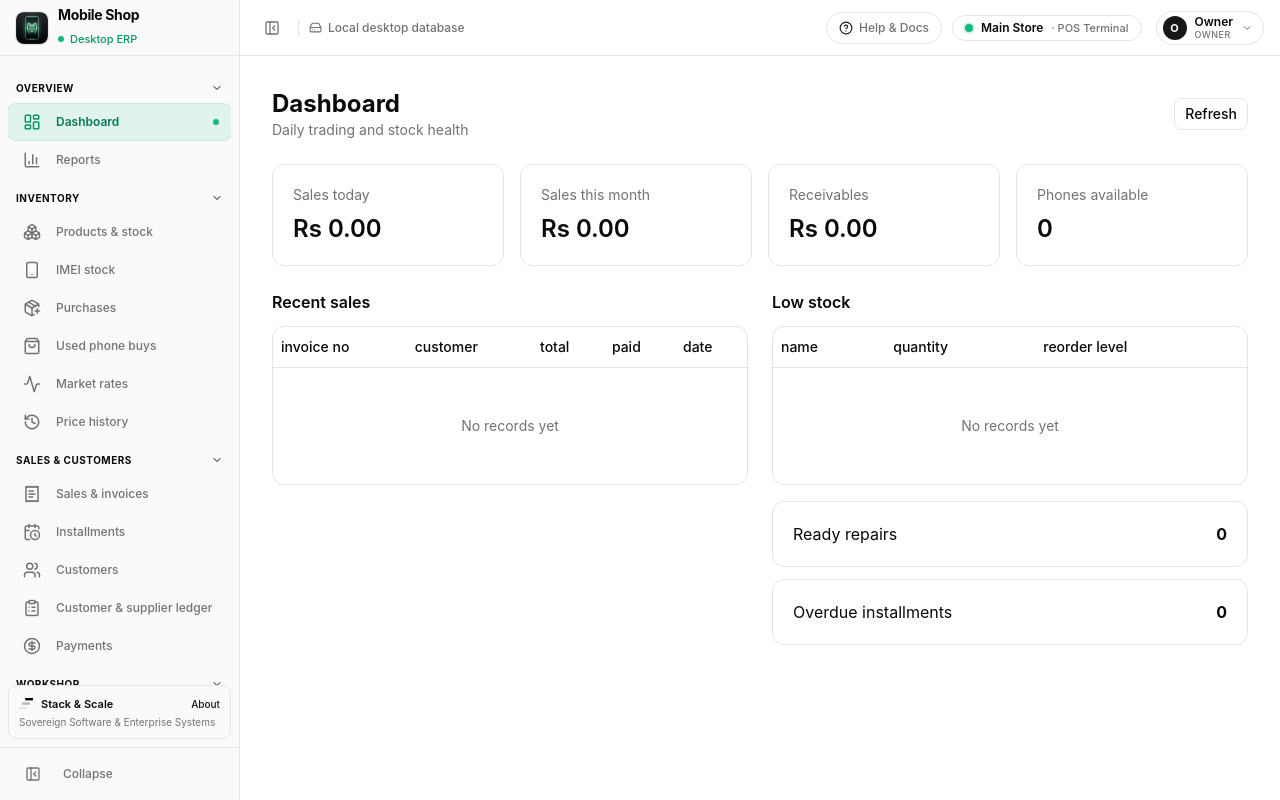
Test: desktop interface › filters reports by date and shows fast moving stock
Expected: the text "Sales today" is shown, [293, 186, 370, 203]
Step 1. Click the button "Reports" → {"x": 120, "y": 160}, box [8, 142, 231, 178]
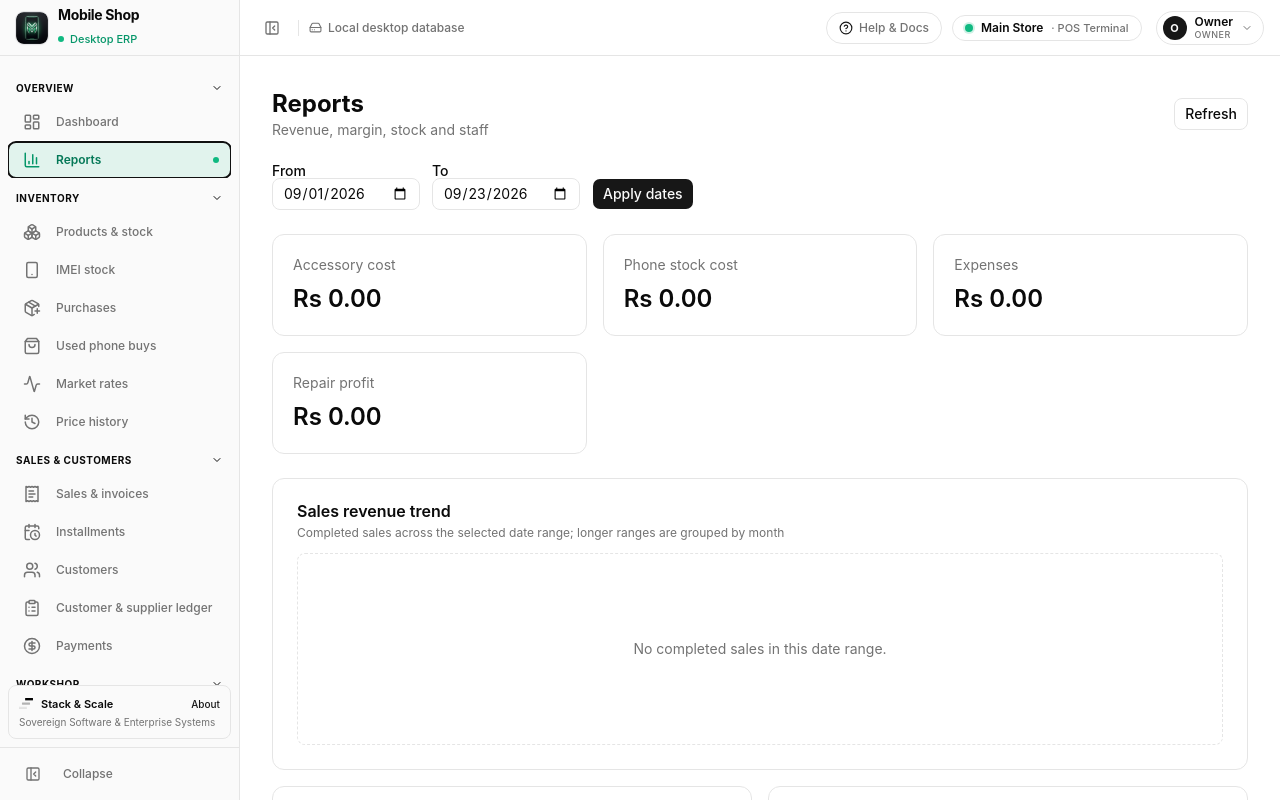
Step 2. Type "2026-09-10" into the date field labelled "From" → {"x": 346, "y": 194}, box [272, 178, 420, 210]
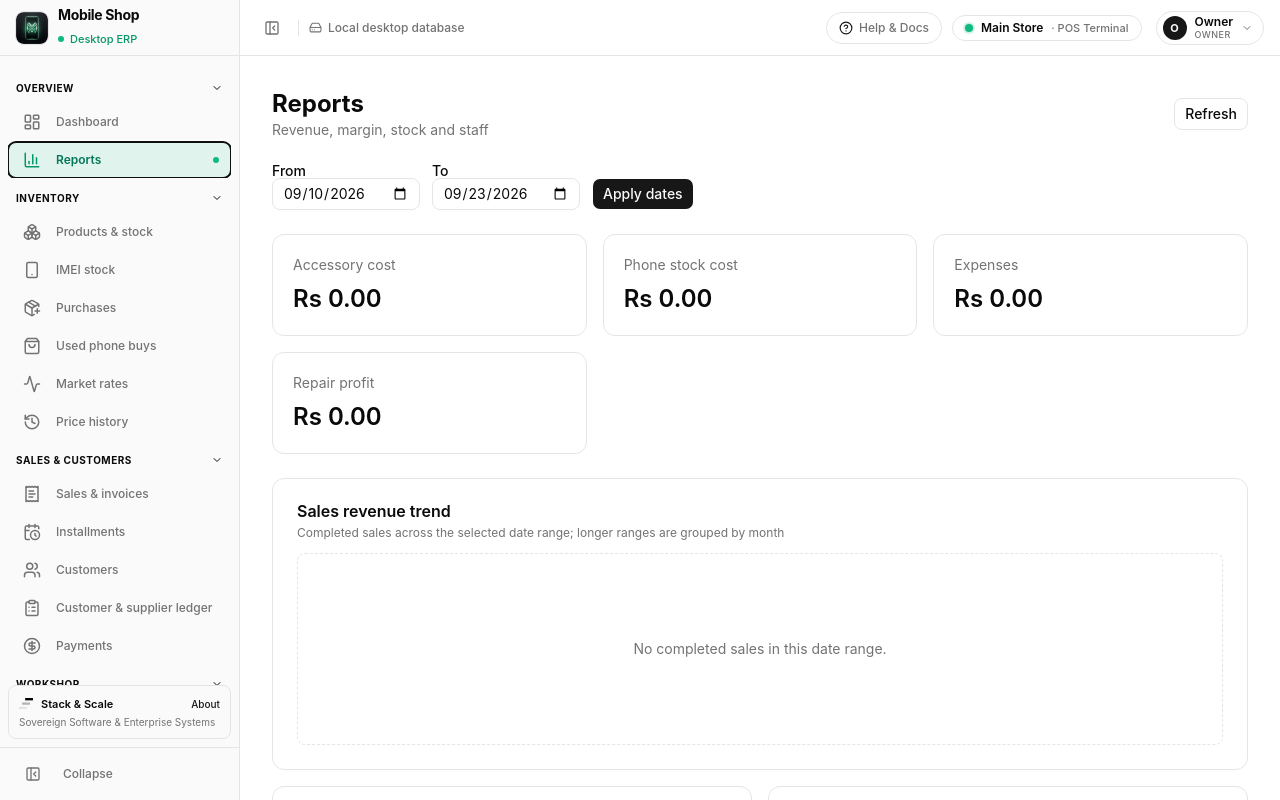
Step 3. Type "2026-09-20" into the date field labelled "To" → {"x": 506, "y": 194}, box [432, 178, 580, 210]
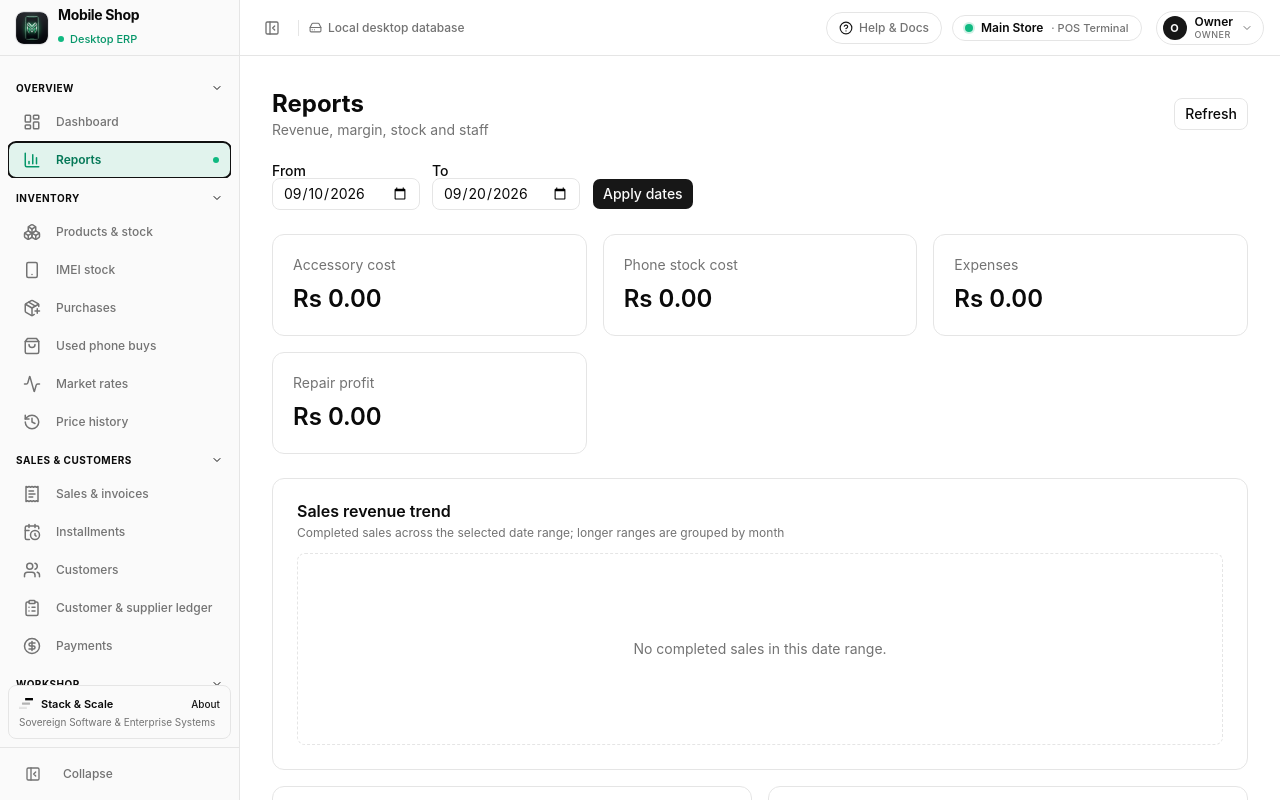
Step 4. Click the button "Apply dates" → {"x": 643, "y": 194}, box [592, 178, 694, 210]
(page scrolled)
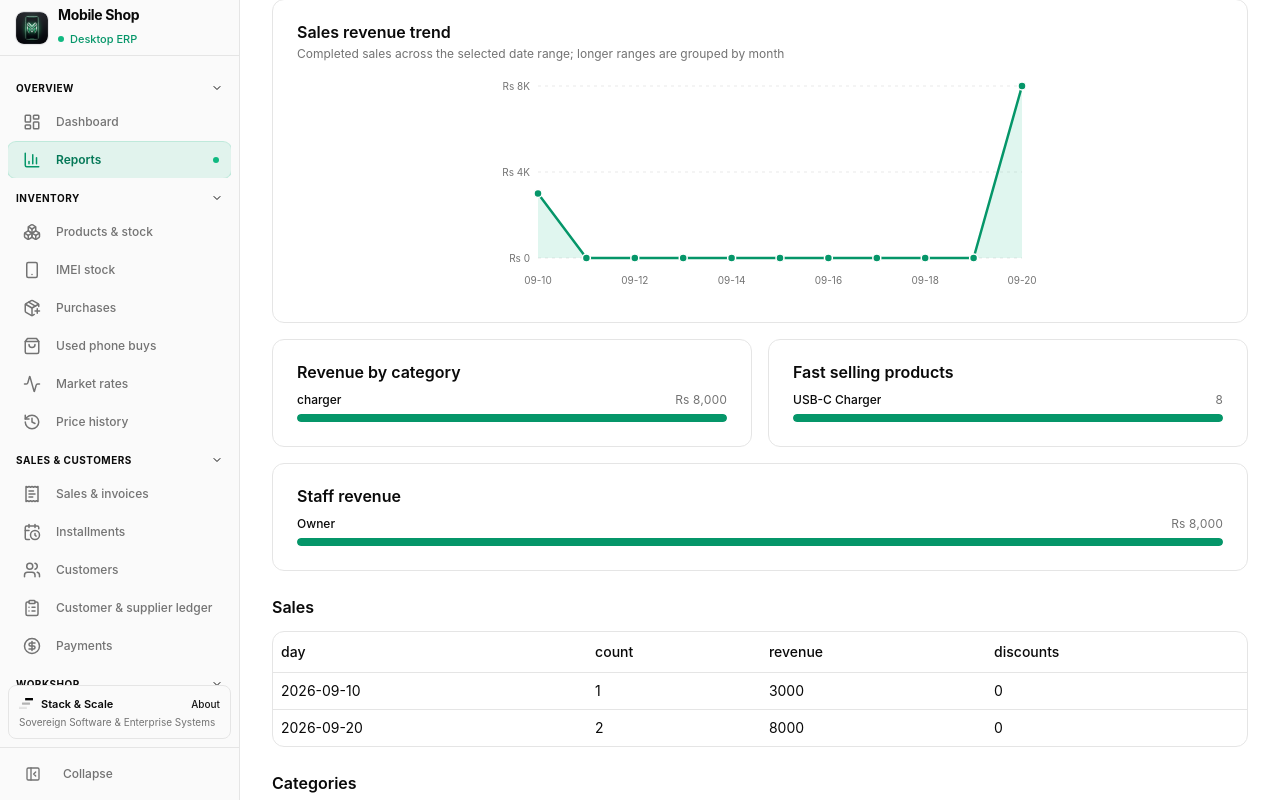
Expected: the element named "Report charts" is shown, [272, 0, 1248, 571]
Expected: the text "Sales revenue trend" is shown, [297, 22, 451, 42]
Expected: the picture named "2026-09-10 to 2026-09-20" is shown, [297, 74, 1223, 294]
